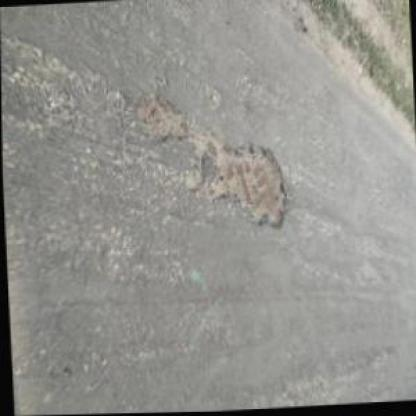pothole: (210, 140, 292, 234), (135, 90, 187, 144)
